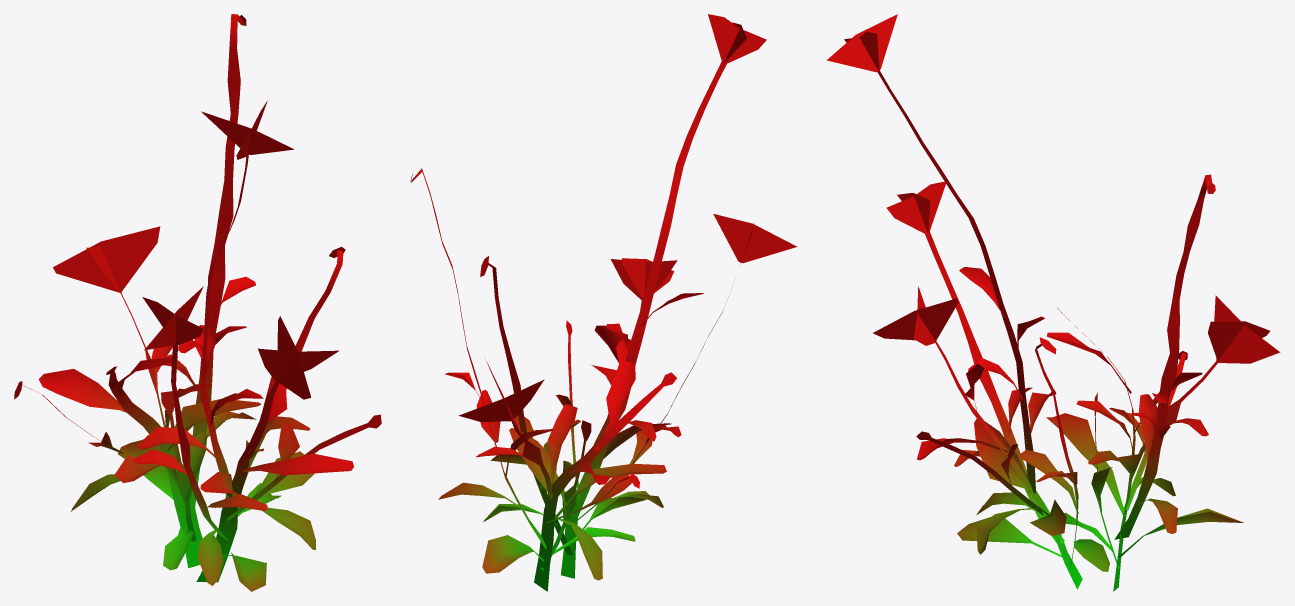
File: Field Poppy_LOD3_Var5_vmcobd0ja.fbx
The picture shows the model from 3 angles, left to right: view 1: azimuth 30°, elevation 25°; view 2: azimuth 150°, elevation 25°; view 3: azimuth 270°, elevation 25°; orthographic projection. The views are drawn at different scales.
Visible parts, largest first — view 1: _dtej_Var5_LOD3; view 2: _dtej_Var5_LOD3; view 3: _dtej_Var5_LOD3.
Part boxes in pixels (<box>): _dtej_Var5_LOD3: <box>14,14,381,591</box>; _dtej_Var5_LOD3: <box>410,14,797,591</box>; _dtej_Var5_LOD3: <box>826,14,1280,591</box>.
Size of the model in its own units: 38.67 by 76 by 58.94.
